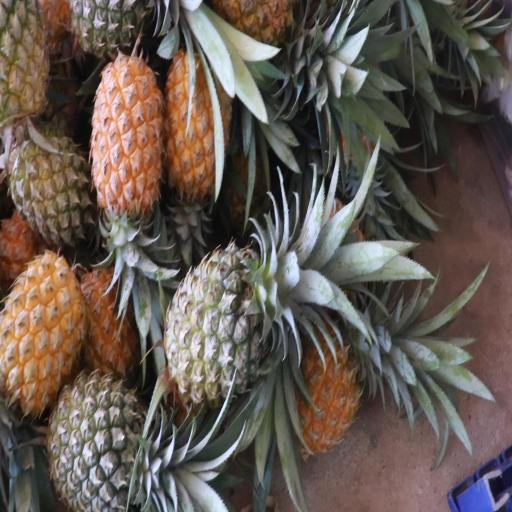Pineapple - v8 v1: (0, 242, 90, 428), (91, 35, 163, 249), (162, 51, 233, 215)
